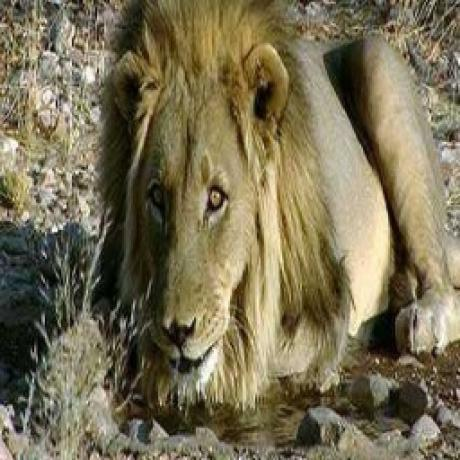Lion: (87, 0, 460, 410)
